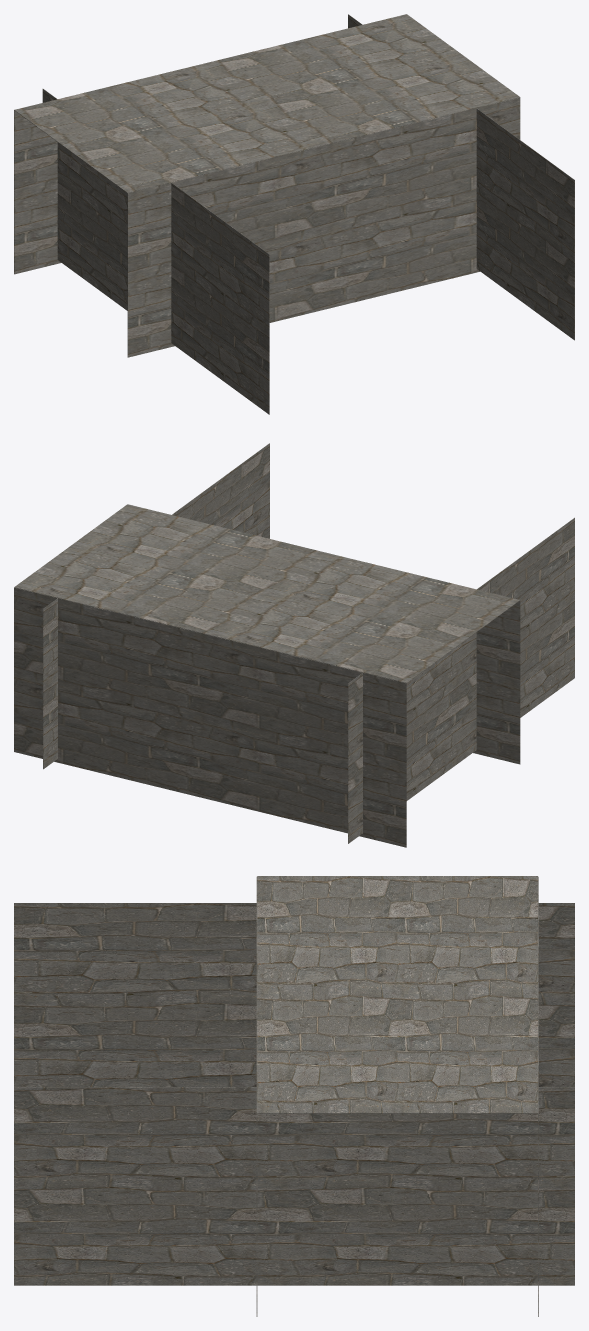
Rendered from stanzafix.fbx.
3 renders of one model, top to bottom at view 1: azimuth 30°, elevation 25°; view 2: azimuth 150°, elevation 25°; view 3: azimuth 270°, elevation 25°, orthographic. The views are drawn at different scales.
Parts seen in each view (by area): view 1: Plane, Tetto ufficio, object_184.002, object_184.001, Plane.001; view 2: Plane.001, Tetto ufficio, object_184.002, object_184.001, Plane; view 3: object_184.001, Tetto ufficio, object_184.002, Plane.
Part boxes in pixels (x1,y1,x2,y2): Plane: (127, 97, 520, 357); Tetto ufficio: (14, 14, 519, 192); object_184.002: (42, 89, 269, 414); object_184.001: (348, 14, 574, 340); Plane.001: (14, 110, 61, 274); Plane.001: (14, 587, 406, 847); Tetto ufficio: (14, 504, 519, 683); object_184.002: (348, 517, 574, 843); object_184.001: (43, 443, 269, 769); Plane: (473, 600, 520, 764); object_184.001: (14, 1087, 574, 1285); Tetto ufficio: (257, 876, 537, 1113); object_184.002: (14, 903, 574, 1086); Plane: (256, 877, 257, 1316).
Bounding box in the file's own units: 1000 × 401 × 1000.
Materials: 1 (1 with a texture image).
